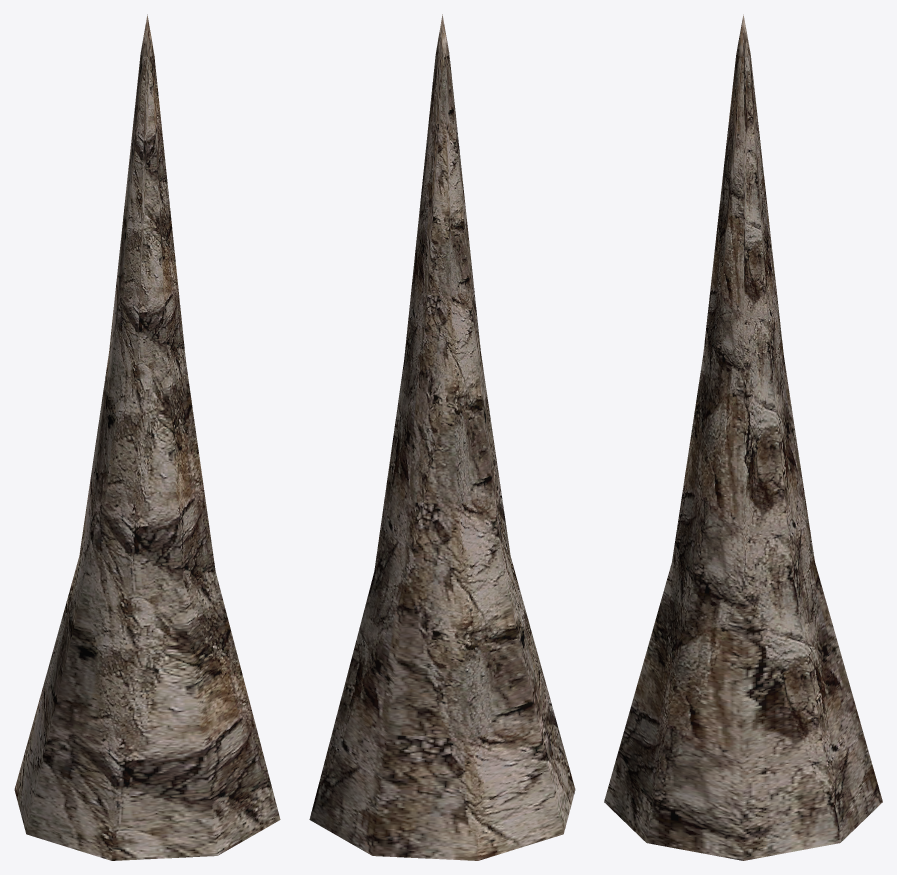
The model's file is stalactite_large2.fbx.
The picture shows the model from 3 angles, left to right: view 1: azimuth 30°, elevation 25°; view 2: azimuth 150°, elevation 25°; view 3: azimuth 270°, elevation 25°; orthographic projection.
Parts seen in each view (by area): view 1: mesh_0; view 2: mesh_0; view 3: mesh_0.
Part boxes in pixels (x1,y1,x2,y2): mesh_0: (14,14,280,860); mesh_0: (309,14,575,860); mesh_0: (604,14,882,860).
Size of the model in its own units: 96.25 by 300 by 96.25.
1 material, 1 textured.
